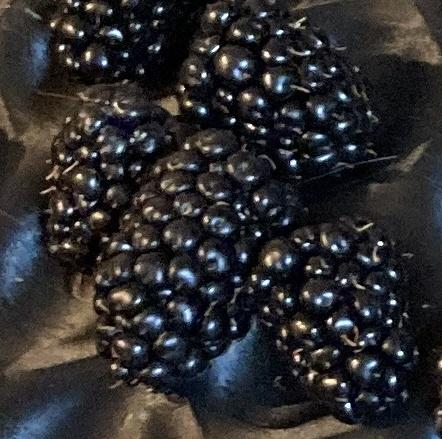berry: (95, 129, 300, 383), (178, 0, 376, 178), (250, 218, 417, 422), (42, 88, 187, 269), (51, 0, 207, 81)
